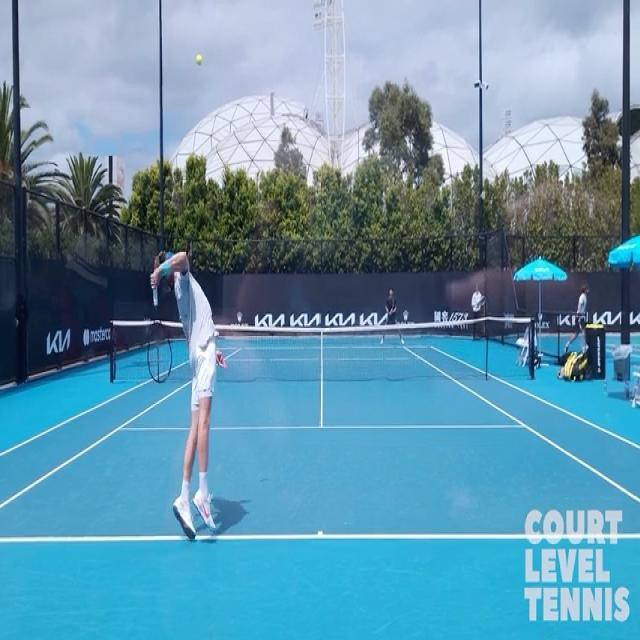serve_hit: (146, 211, 226, 549)
